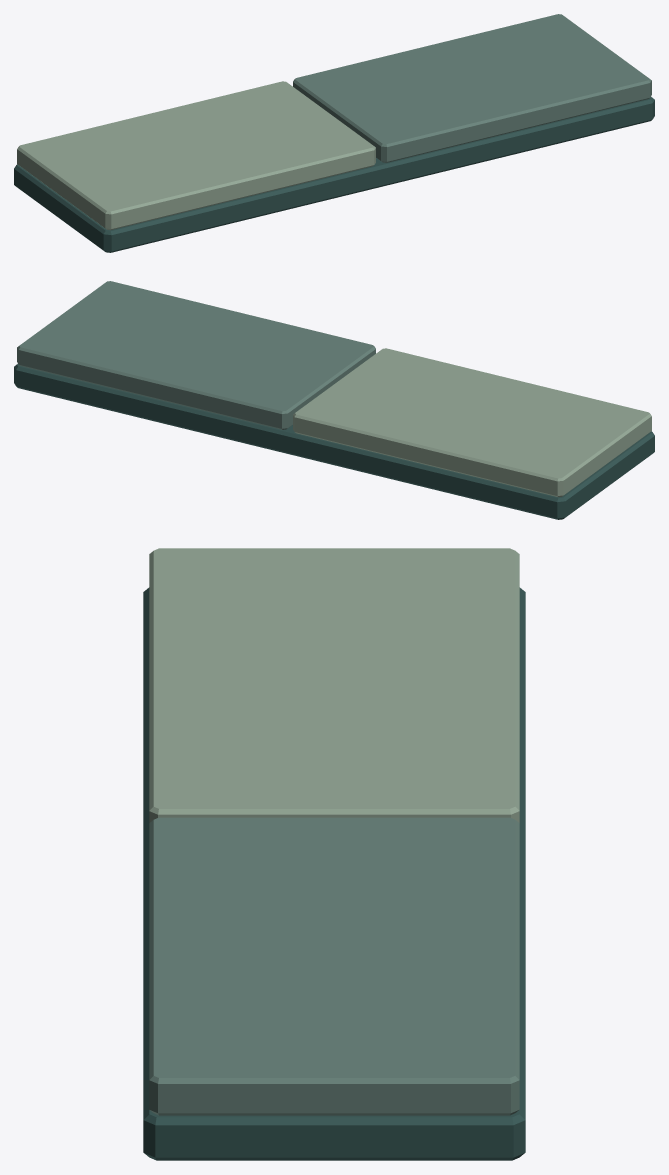
Rendered from floor-threshold.glb.
3 renders of one model, top to bottom at view 1: azimuth 30°, elevation 25°; view 2: azimuth 150°, elevation 25°; view 3: azimuth 270°, elevation 25°, orthographic. The views are drawn at different scales.
Visible parts, largest first — view 1: floor-threshold__body; view 2: floor-threshold__body; view 3: floor-threshold__body.
Part boxes in pixels (left/top/right/bottom): floor-threshold__body: left=14, top=14, right=654, bottom=252; floor-threshold__body: left=14, top=281, right=654, bottom=519; floor-threshold__body: left=143, top=548, right=525, bottom=1160.
Size of the model in its own units: 2 by 0.14 by 0.6.
